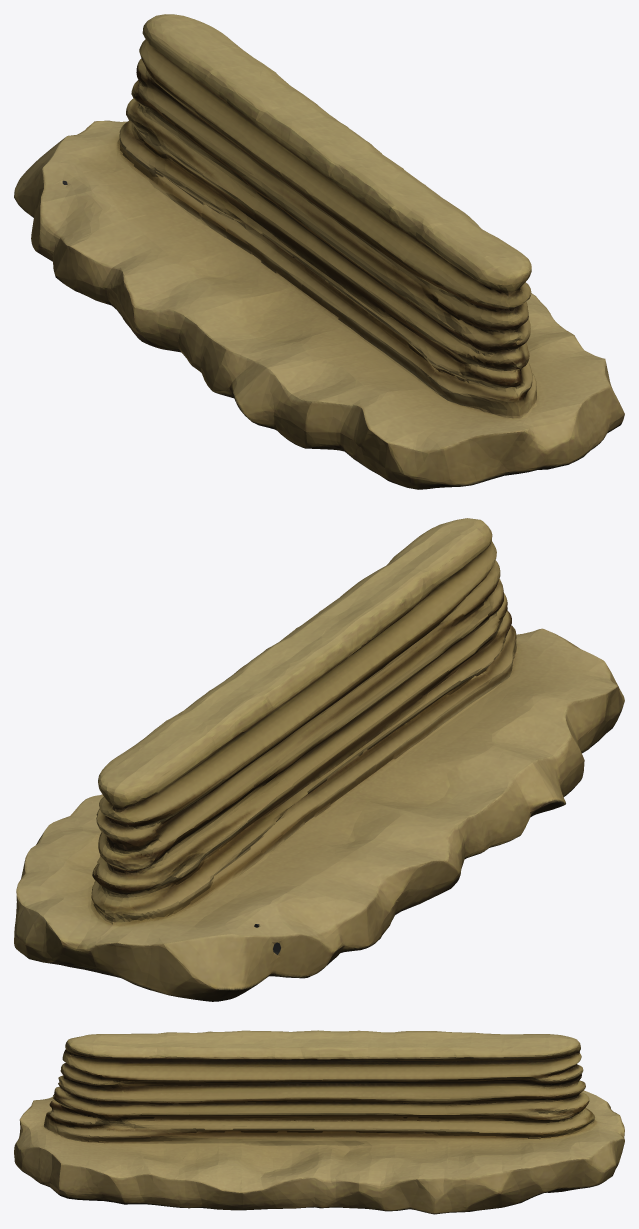
The picture shows the model from 3 angles, top to bottom: view 1: azimuth 30°, elevation 25°; view 2: azimuth 150°, elevation 25°; view 3: azimuth 270°, elevation 25°; orthographic projection. The views are drawn at different scales.
Visible parts, largest first — view 1: world; view 2: world; view 3: world.
Part boxes in pixels (x1,y1,x2,y2): world: [14, 14, 624, 489]; world: [14, 518, 624, 1001]; world: [14, 1030, 624, 1214].
Size of the model in its own units: 0.0578 by 0.0308 by 0.13.
1 material, 1 textured.
